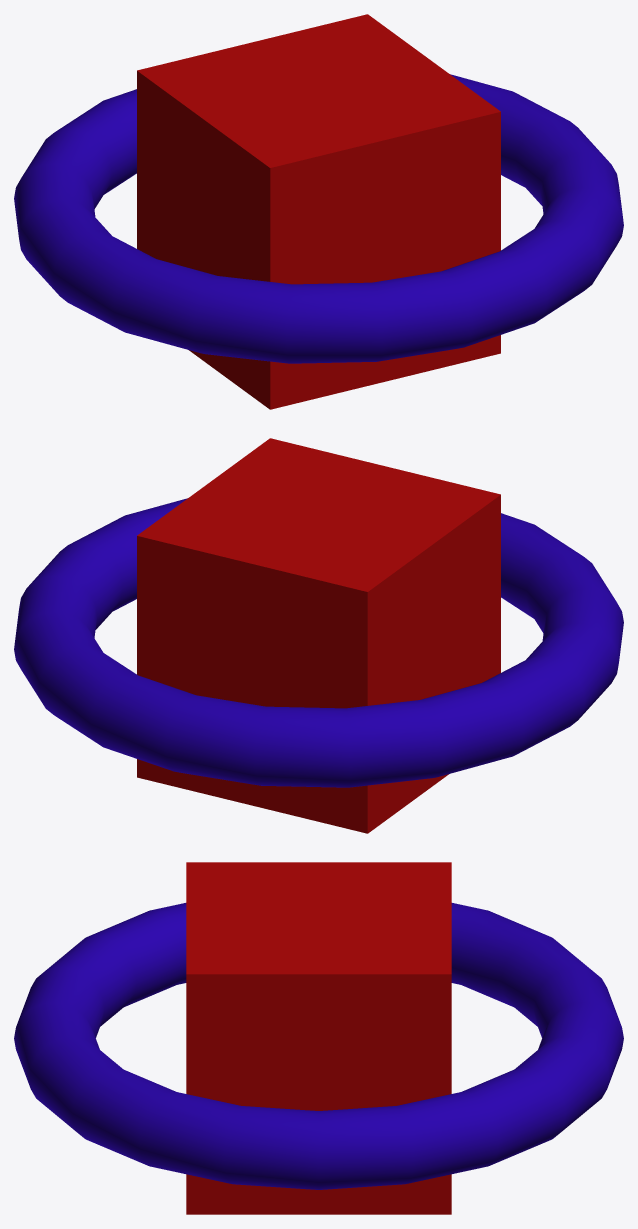
The model's file is SM_CubeRing.fbx.
3 views of the same model, one above another, from view 1: azimuth 30°, elevation 25°; view 2: azimuth 150°, elevation 25°; view 3: azimuth 270°, elevation 25° (orthographic).
Visible parts, largest first — view 1: SM_Cube, SM_Ring; view 2: SM_Cube, SM_Ring; view 3: SM_Ring, SM_Cube.
Boxes of the visible parts, box(x1,y1,x2,y2) form: SM_Cube: box(137, 14, 500, 409); SM_Ring: box(14, 74, 623, 363); SM_Cube: box(137, 438, 500, 833); SM_Ring: box(14, 498, 623, 787); SM_Ring: box(14, 903, 623, 1189); SM_Cube: box(186, 862, 451, 1214).
Size of the model in its own units: 230 by 100 by 230.
